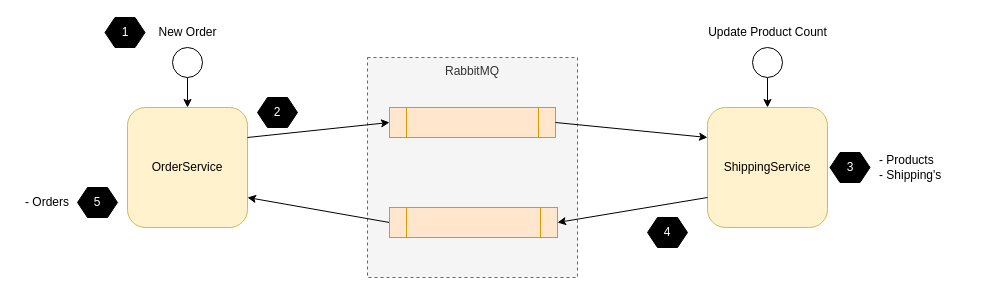
The diagram is 994 pixels wide and 295 high, and some of its shapes have lost their labels. The shapes that lost their labels are listed below. From the top down, each one's centre as x and y in pixels, then its label:
At pixel 472 122: "shipping-requests".
At pixel 473 222: "shippings".
